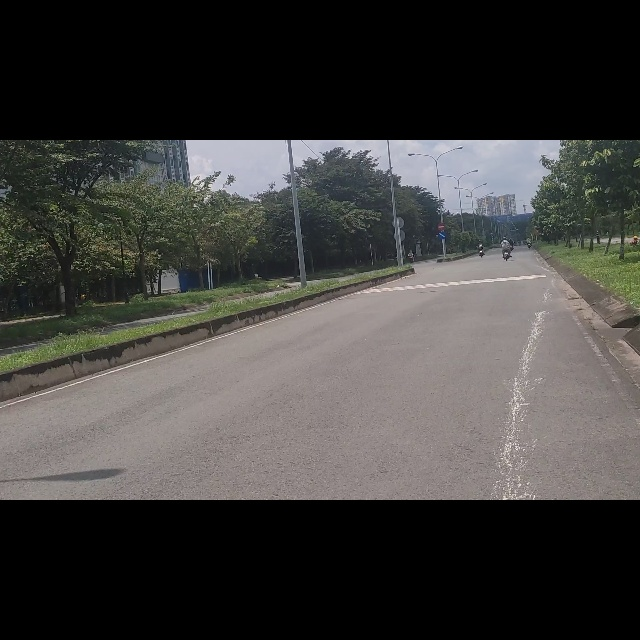bien_hieu_lenh: (438, 148, 445, 161), (439, 163, 446, 175)
